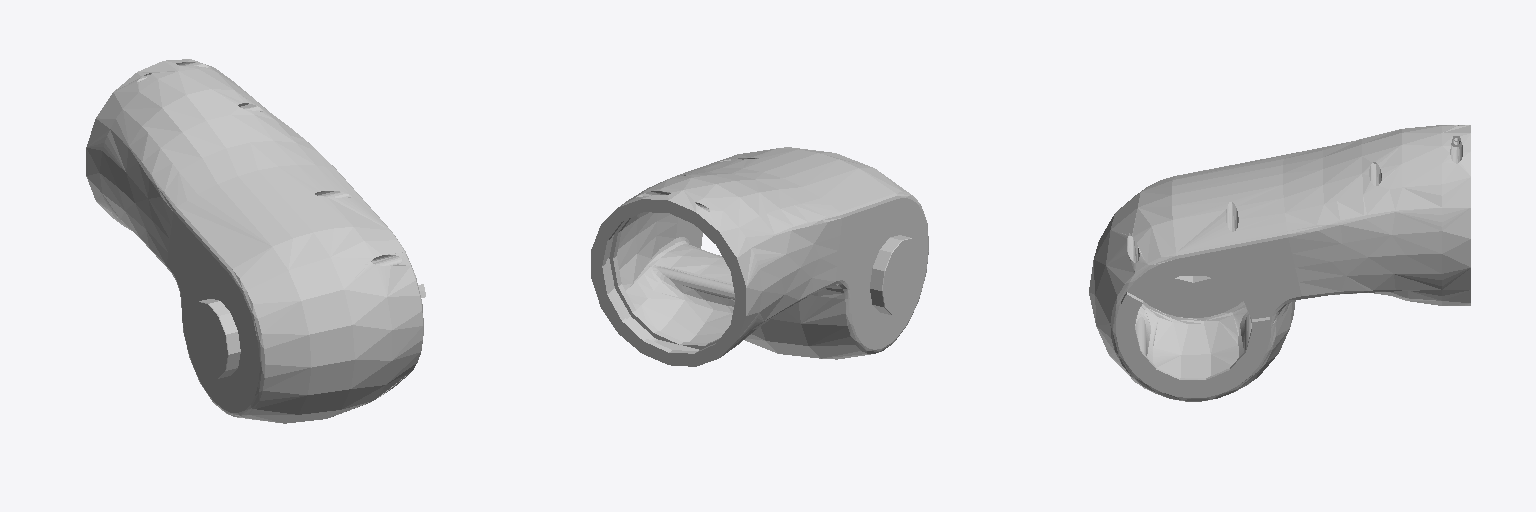
File: arml_t45.obj
3 views of the same model, side by side, from view 1: azimuth 30°, elevation 25°; view 2: azimuth 150°, elevation 25°; view 3: azimuth 270°, elevation 25° (orthographic).
Size of the model in its own units: 0.1445 by 0.189 by 0.2629.